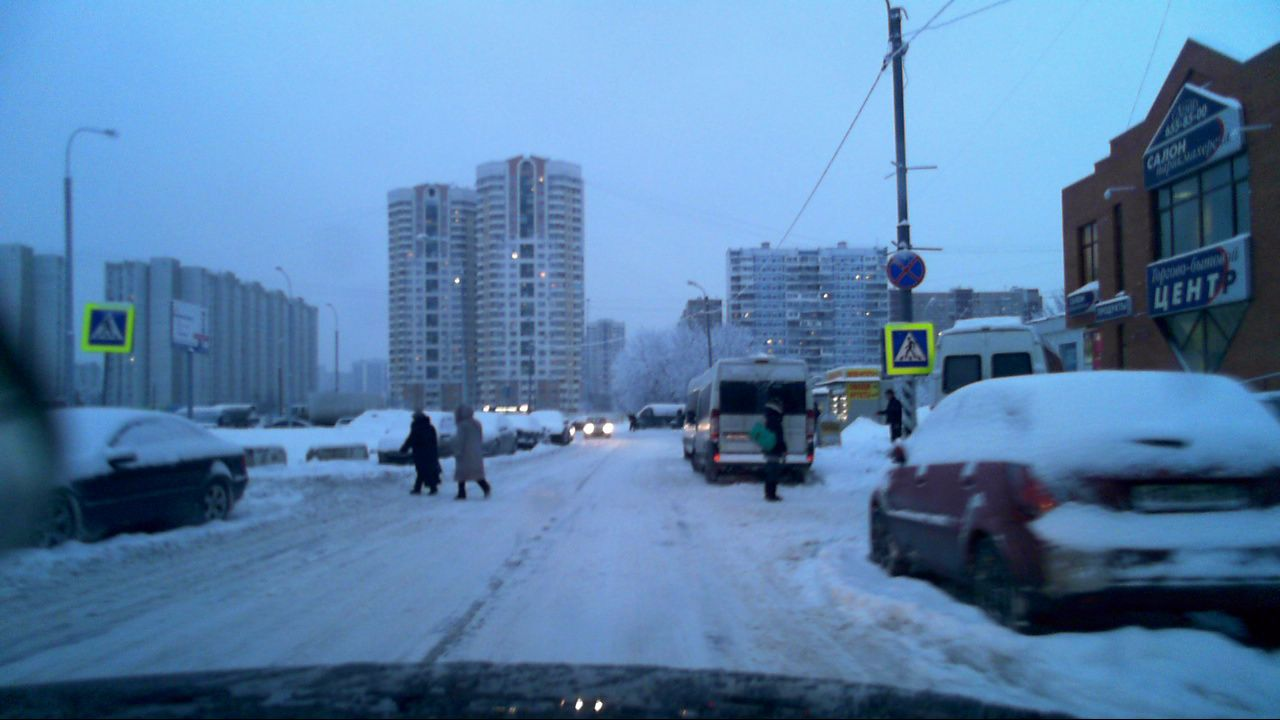No Parking: (886, 248, 927, 290)
